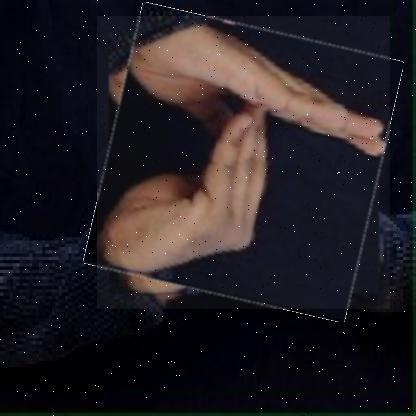Z: (97, 16, 391, 310)
